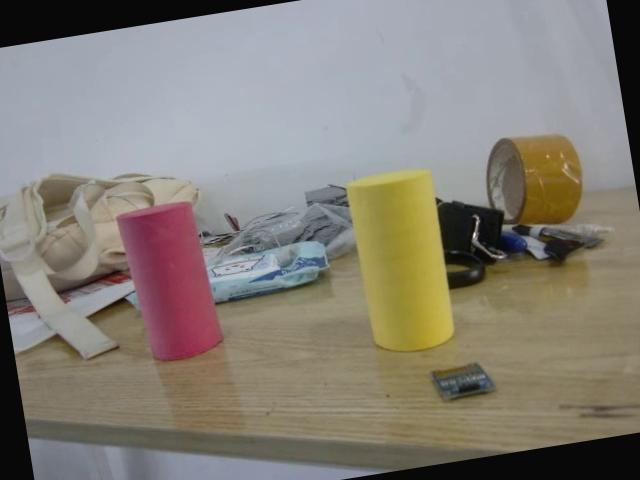red_cylinder: (113, 197, 230, 366)
yellow_cylinder: (344, 163, 459, 358)
